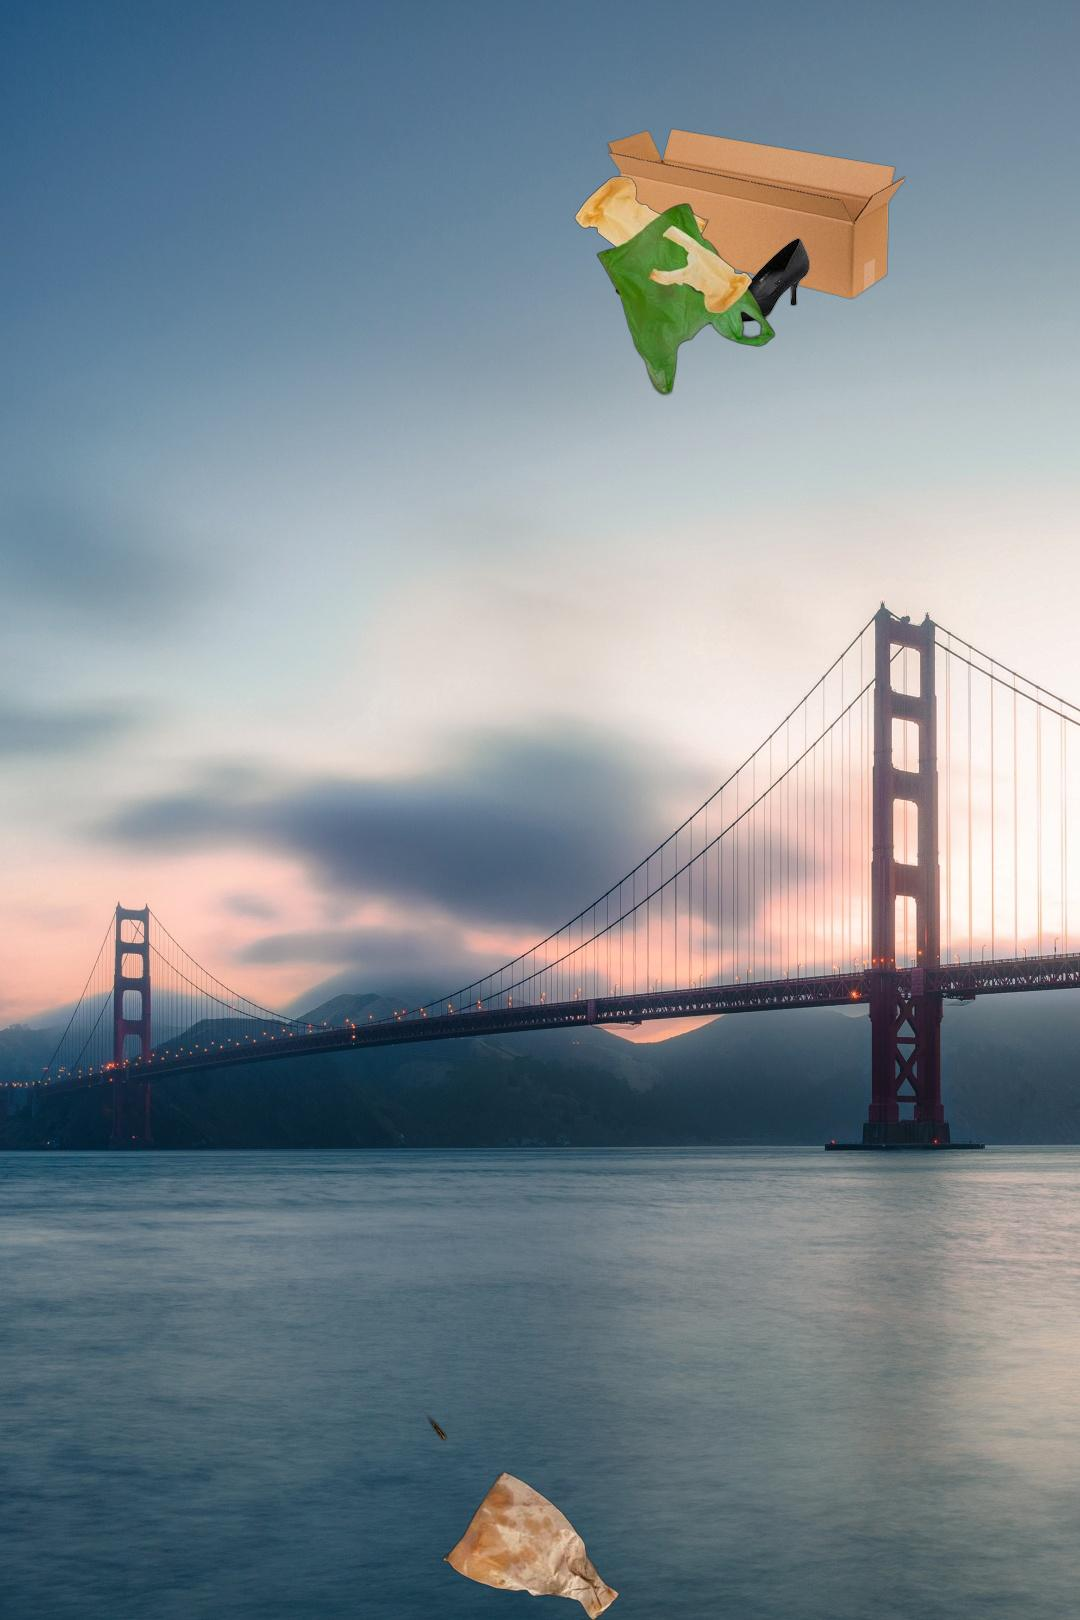paper-bag: (439, 1469, 627, 1620)
plastic-bag: (573, 174, 777, 399)
shoes: (615, 236, 812, 327)
trashbox-cardboard: (174, 1367, 593, 1620), (606, 127, 906, 303)
